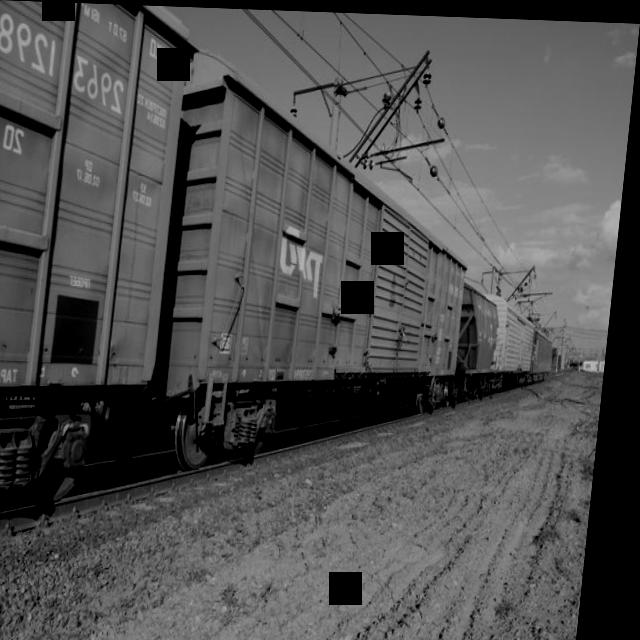boxcar: (160, 31, 497, 478), (0, 0, 207, 565), (488, 285, 545, 386)
hopper: (455, 270, 513, 406)
